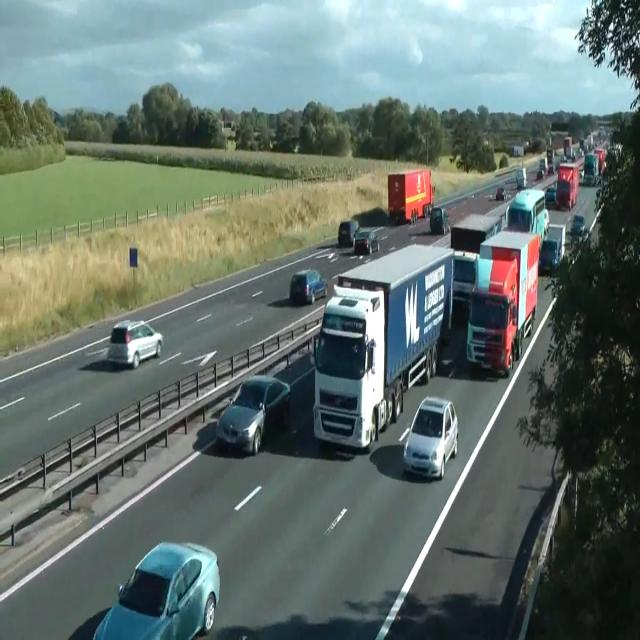bus: (92, 541, 220, 639), (215, 374, 291, 455), (403, 396, 459, 480), (106, 318, 162, 369), (290, 268, 328, 305), (565, 213, 589, 250), (353, 228, 379, 254), (571, 213, 587, 236), (544, 182, 556, 204), (516, 167, 526, 189), (495, 187, 505, 200), (536, 169, 544, 179), (548, 164, 554, 174)
jeep: (452, 249, 478, 303), (429, 206, 450, 235), (338, 219, 358, 246)
minibus: (312, 243, 454, 452), (466, 230, 540, 377), (503, 188, 549, 252), (387, 169, 435, 224), (450, 212, 502, 254), (539, 223, 565, 275), (555, 162, 579, 210), (582, 152, 598, 187), (563, 136, 575, 161)
